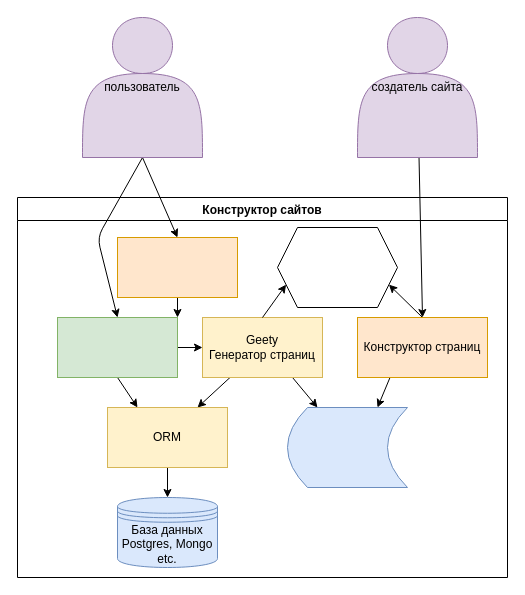
Image size: 525x595. Some labels were removed from this diagram. The shapes that lost their labels are listed below. From the top down, each one's centre as x and y in pixels, then its label:
the point at 177,267: API
the point at 337,267: Графические компоненты и плагины
the point at 117,347: Slinn Сервер
the point at 347,447: Страницы
